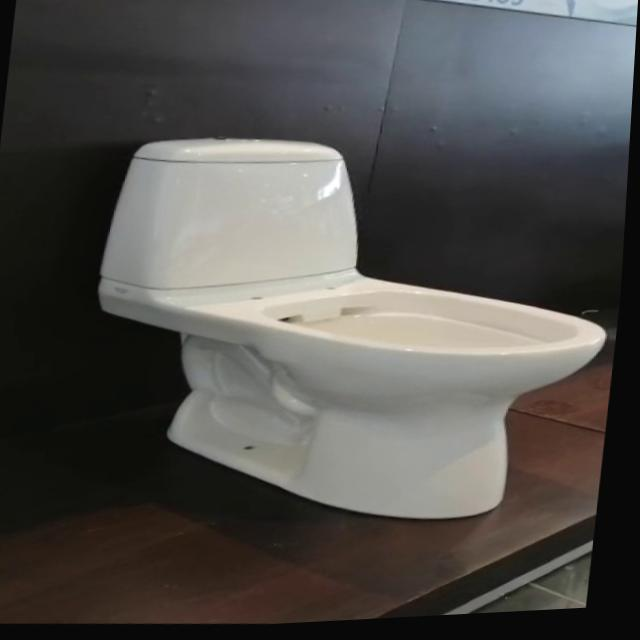toilet: (77, 116, 633, 548)
